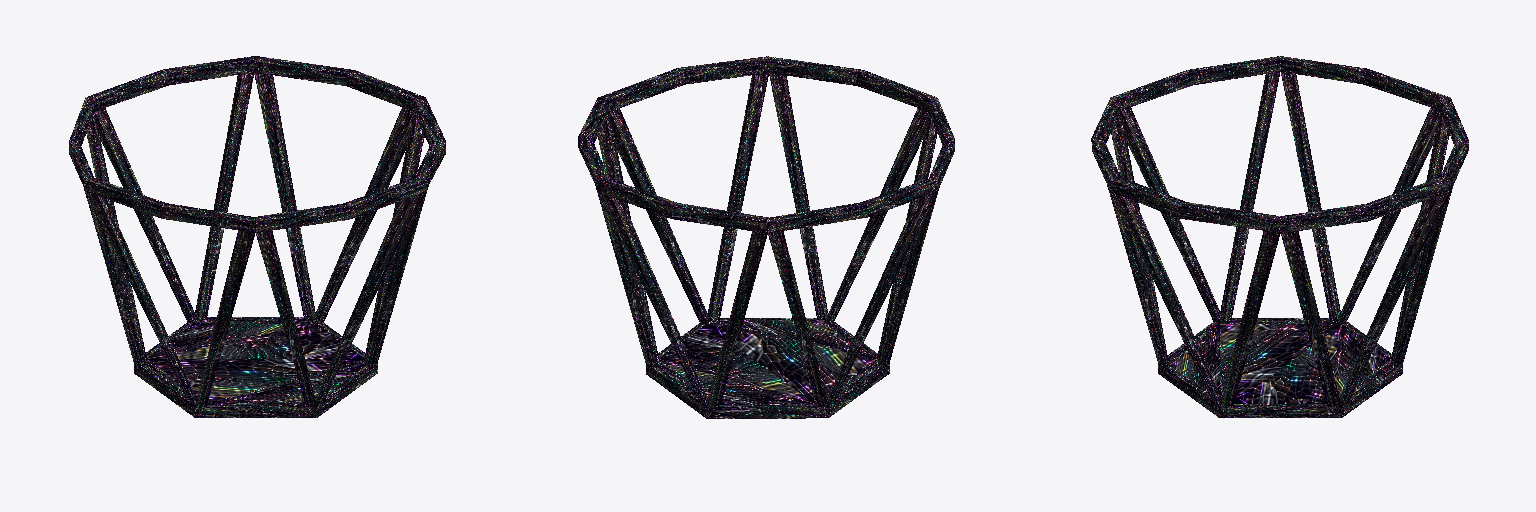
3 views of the same model, side by side, from view 1: azimuth 30°, elevation 25°; view 2: azimuth 150°, elevation 25°; view 3: azimuth 270°, elevation 25° (orthographic).
Parts seen in each view (by area): view 1: Basket.001_Circle.001; view 2: Basket.001_Circle.001; view 3: Basket.001_Circle.001.
Part boxes in pixels (x1,y1,x2,y2): Basket.001_Circle.001: (69, 56, 445, 417); Basket.001_Circle.001: (578, 56, 954, 418); Basket.001_Circle.001: (1091, 56, 1468, 417).
Size of the model in its own units: 1.6 by 1.06 by 1.54.
1 materials, 1 textured.